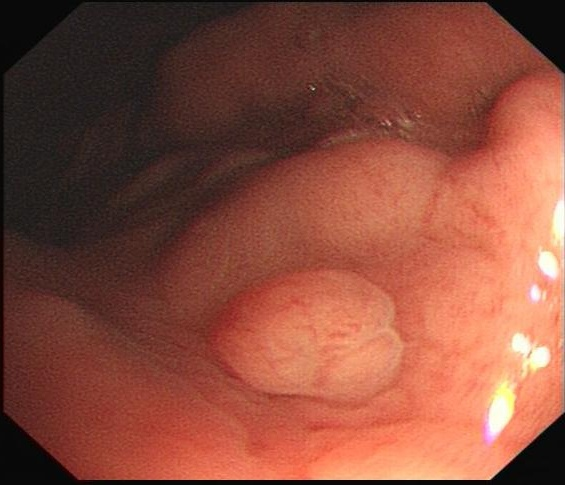Polyp: (210, 258, 408, 409)
